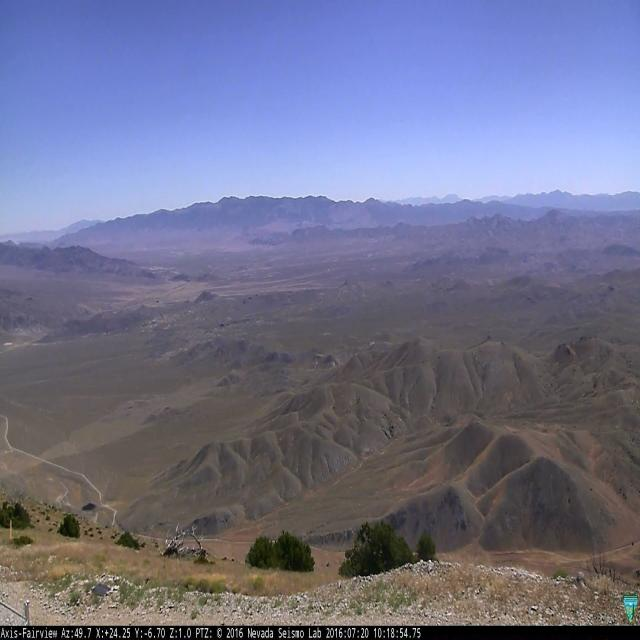smoke: (312, 216, 315, 223)
